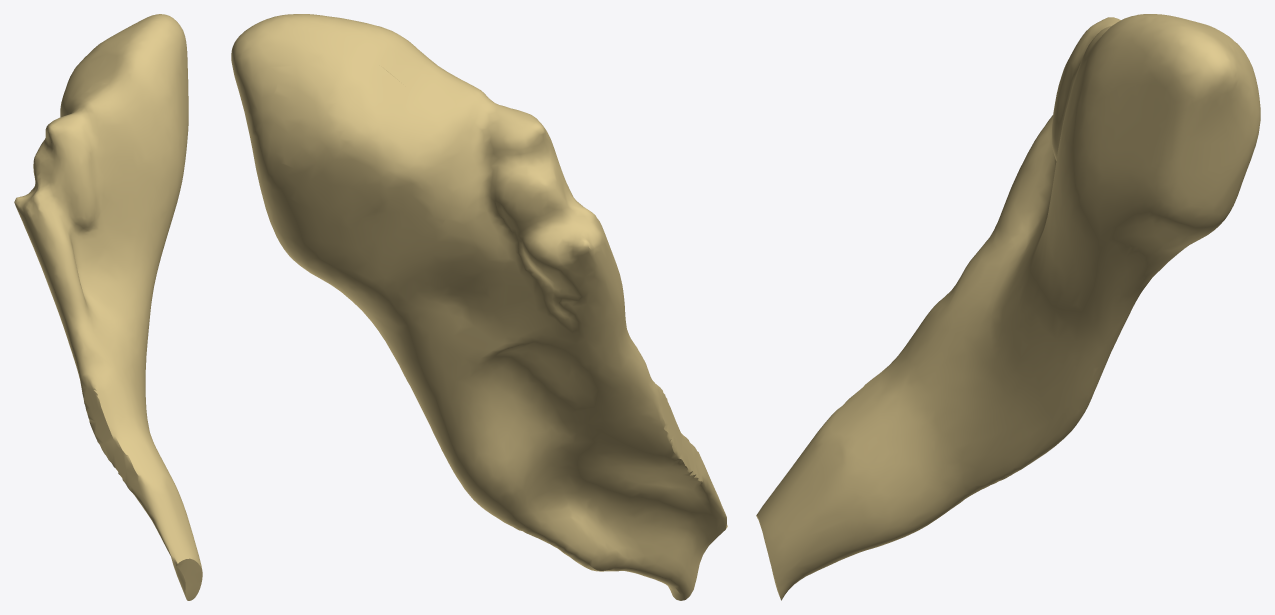
3 views of the same model, side by side, from view 1: azimuth 30°, elevation 25°; view 2: azimuth 150°, elevation 25°; view 3: azimuth 270°, elevation 25° (orthographic). The views are drawn at different scales.
Parts seen in each view (by area): view 1: 左侧小脑上脚; view 2: 左侧小脑上脚; view 3: 左侧小脑上脚.
Part boxes in pixels (box(x1,y1,x2,y2)): 左侧小脑上脚: box(14, 14, 202, 600); 左侧小脑上脚: box(231, 14, 727, 600); 左侧小脑上脚: box(756, 14, 1260, 600).
Bounding box in the file's own units: 0.0202 × 0.0442 × 0.0313.
